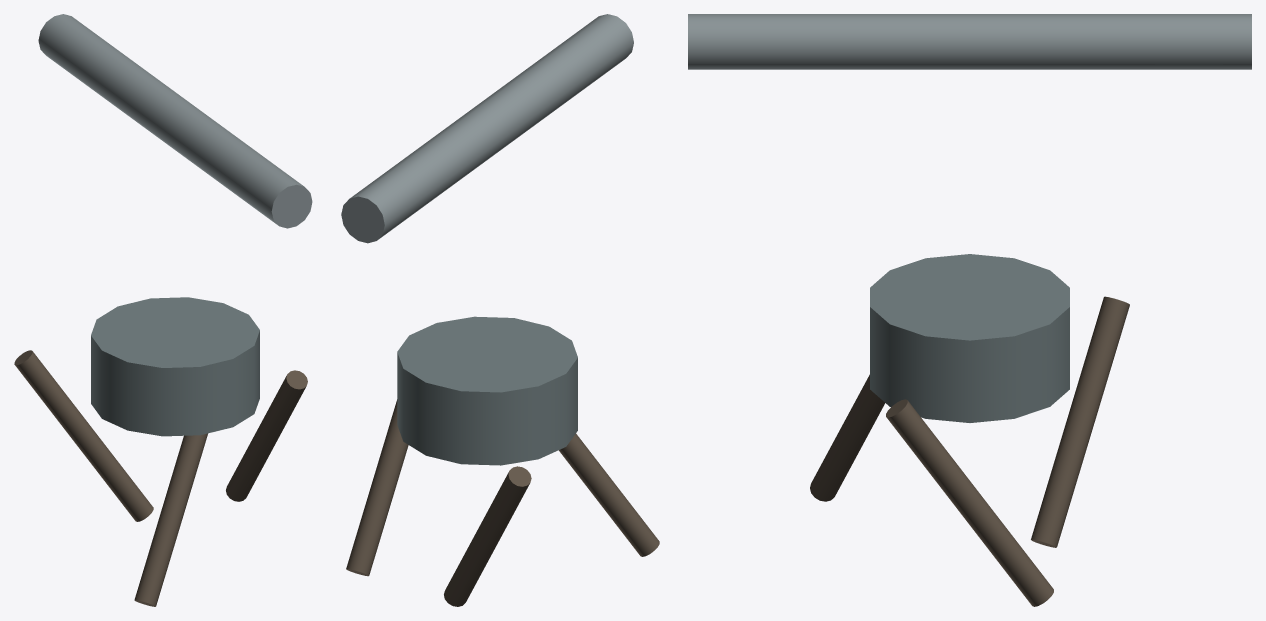
Rendered from sky_lance_turret_static.glb.
The picture shows the model from 3 angles, left to right: view 1: azimuth 30°, elevation 25°; view 2: azimuth 150°, elevation 25°; view 3: azimuth 270°, elevation 25°; orthographic projection. The views are drawn at different scales.
Parts seen in each view (by area): view 1: sky_lance_turret; view 2: sky_lance_turret; view 3: sky_lance_turret.
Part boxes in pixels (x1,y1,x2,y2): sky_lance_turret: (14,14,312,606); sky_lance_turret: (341,14,659,606); sky_lance_turret: (688,14,1251,606).
Bounding box in the file's own units: 0.246 × 0.5175 × 0.495.
